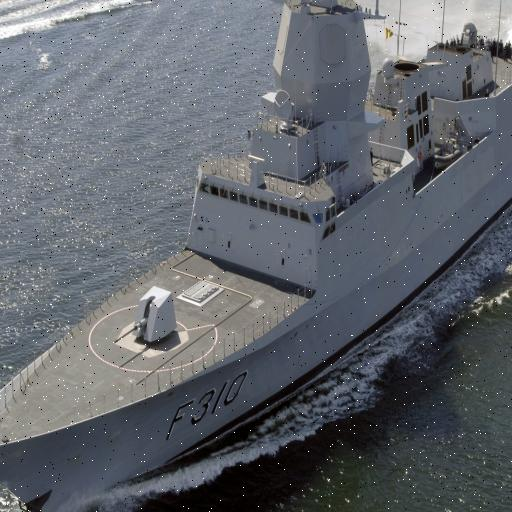Fragata: (1, 1, 414, 512)
